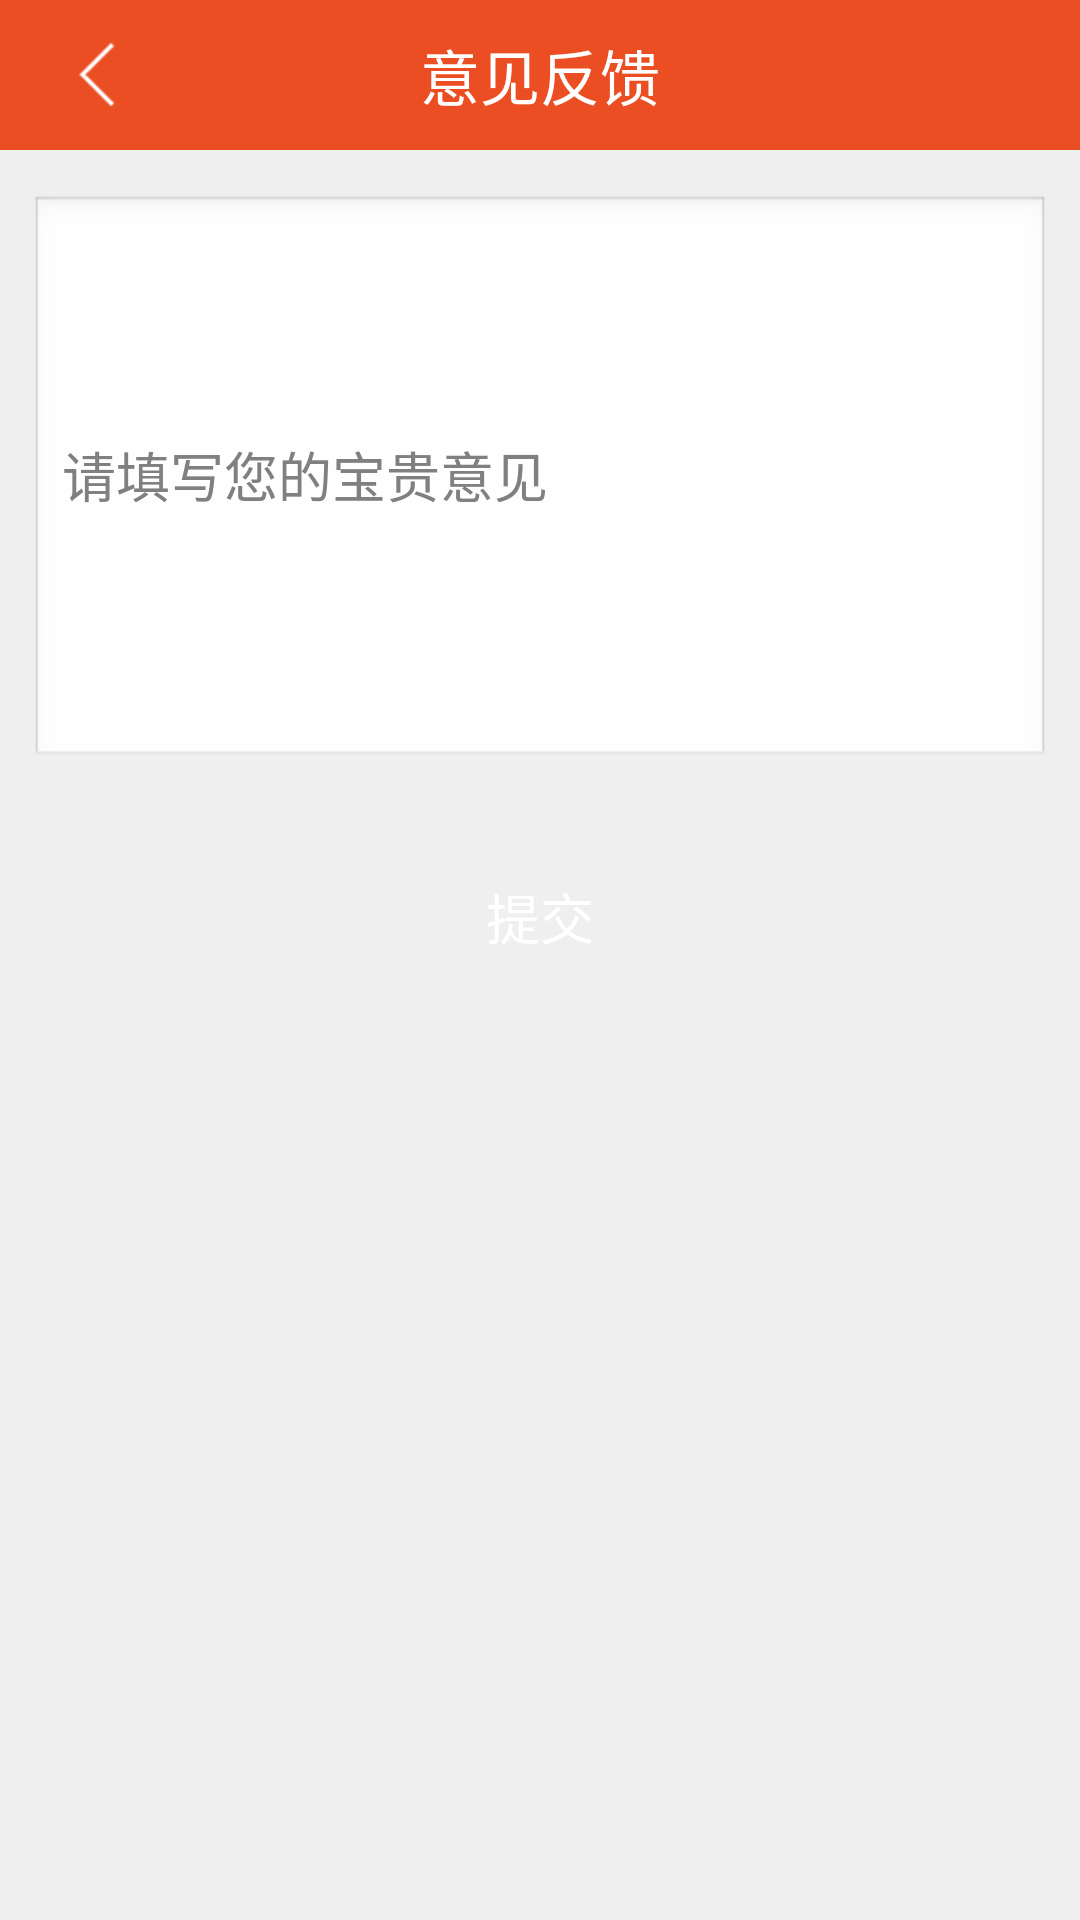

Point at icon controls on the screen. Image size 1080px x 1920px, points as (x=x, y=y).
back: (x=96, y=74)
